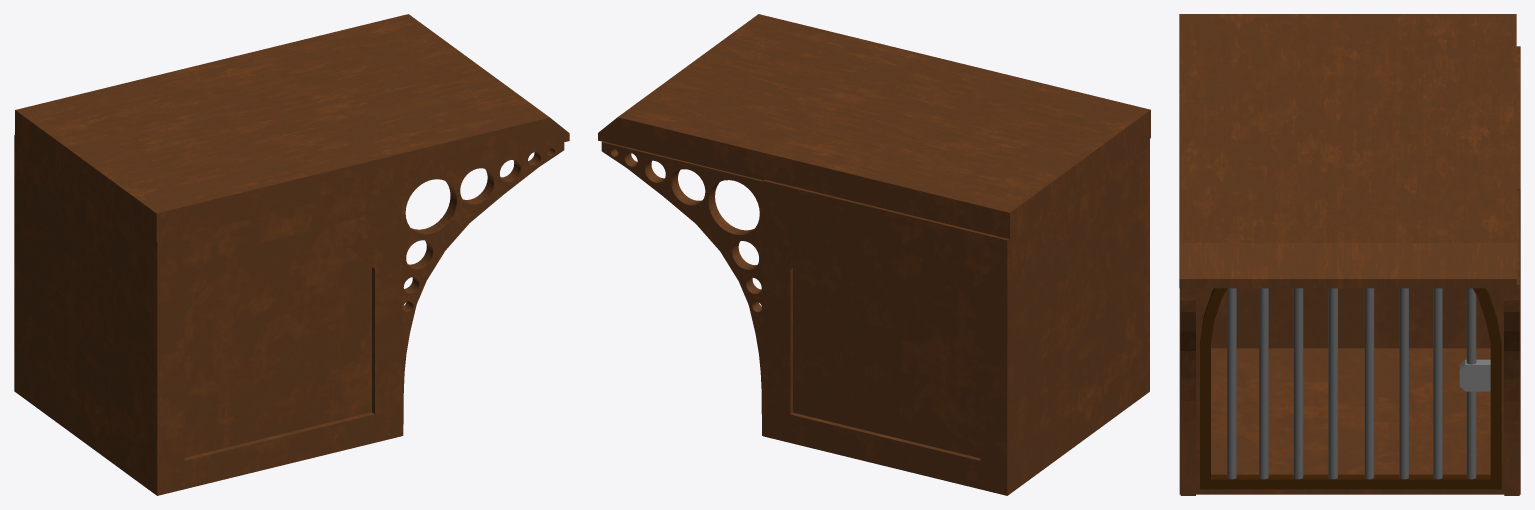
Rendered from 1 small cage.glb.
3 renders of one model, left to right at view 1: azimuth 30°, elevation 25°; view 2: azimuth 150°, elevation 25°; view 3: azimuth 270°, elevation 25°, orthographic. The views are drawn at different scales.
Visible parts, largest first — view 1: Cube.113, Cube.124, Cube.122; view 2: Cube.113, Cube.124, Cube.001; view 3: Cube.124, Cube.113, Cube.115, Cube.001, Cube.122, Cylinder.196, Cylinder.198, Cylinder.197, Cylinder.194, Cylinder.195, Cylinder.199, Cylinder.200 (+2 smaller).
Part boxes in pixels (left/top/right/bottom): Cube.113: left=14, top=135, right=401, bottom=495; Cube.124: left=15, top=14, right=569, bottom=241; Cube.122: left=402, top=142, right=564, bottom=435; Cube.113: left=763, top=139, right=1149, bottom=495; Cube.124: left=598, top=14, right=1150, bottom=240; Cube.001: left=601, top=141, right=763, bottom=435; Cube.124: left=1179, top=14, right=1516, bottom=288; Cube.113: left=1179, top=46, right=1520, bottom=494; Cube.115: left=1200, top=288, right=1501, bottom=489; Cube.001: left=1504, top=190, right=1519, bottom=495; Cube.122: left=1180, top=288, right=1195, bottom=495; Cylinder.196: left=1364, top=288, right=1374, bottom=479; Cylinder.198: left=1293, top=288, right=1303, bottom=479; Cylinder.197: left=1328, top=288, right=1337, bottom=479; Cylinder.194: left=1433, top=288, right=1442, bottom=479; Cylinder.195: left=1399, top=288, right=1408, bottom=479; Cylinder.199: left=1259, top=288, right=1268, bottom=479; Cylinder.200: left=1227, top=288, right=1236, bottom=479.
Size of the model in its own units: 10.73 by 7.03 by 6.44.
6 materials, 6 textured.
